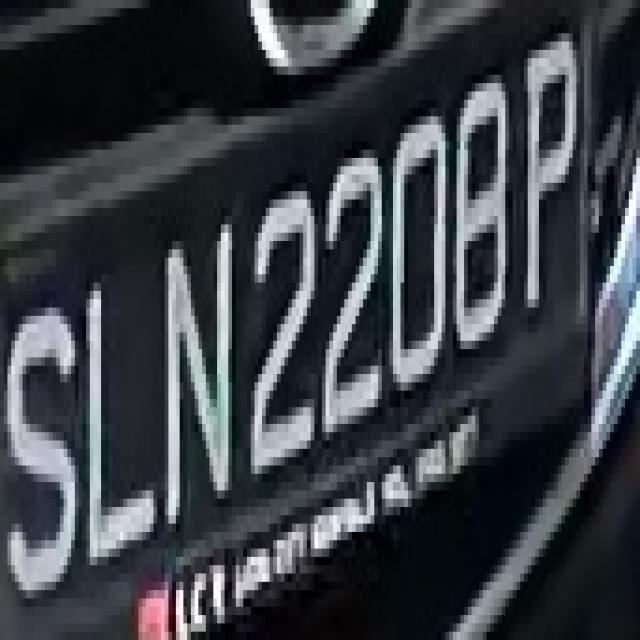0: (393, 116, 453, 399)
2: (318, 133, 393, 457), (243, 191, 314, 507)
8: (449, 50, 509, 357)
L: (75, 258, 161, 590)
N: (168, 224, 240, 532)
P: (516, 25, 588, 307)
S: (11, 274, 75, 607)
